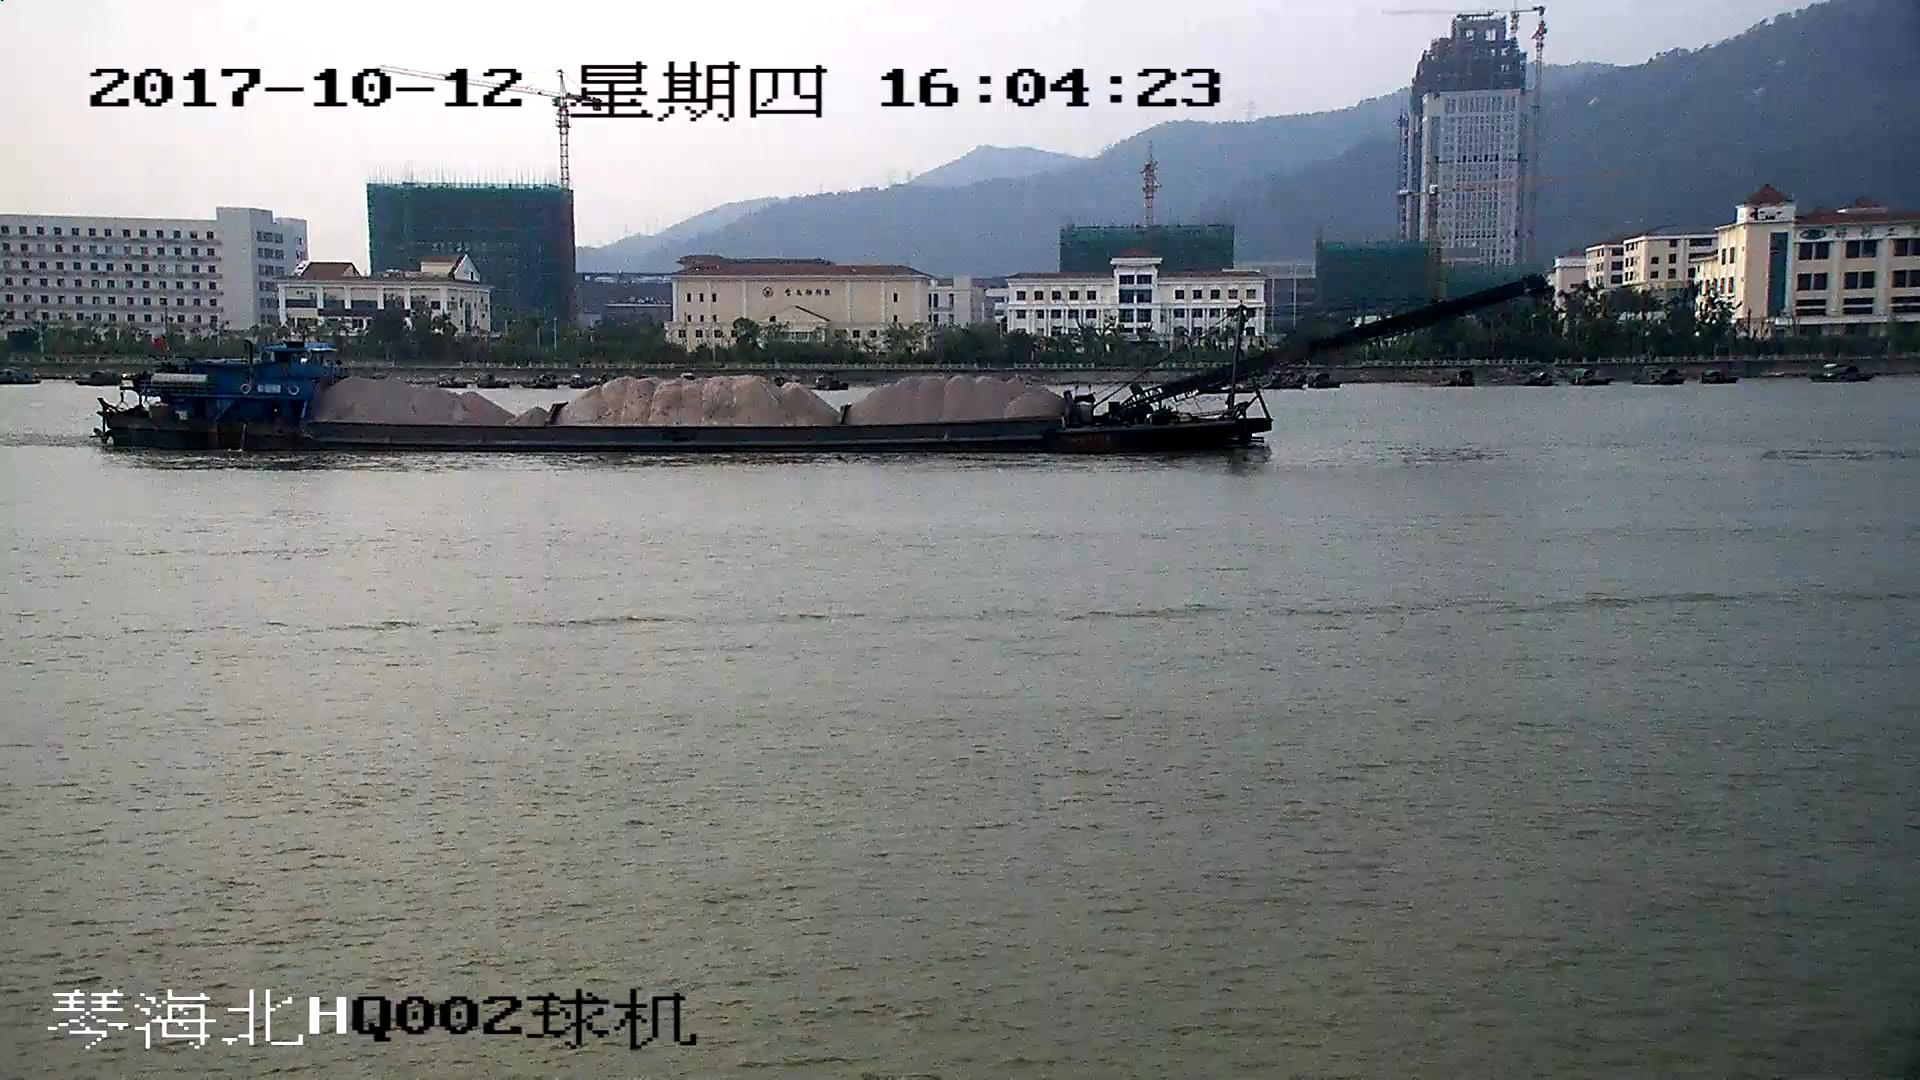ore carrier: (103, 281, 1541, 451)
